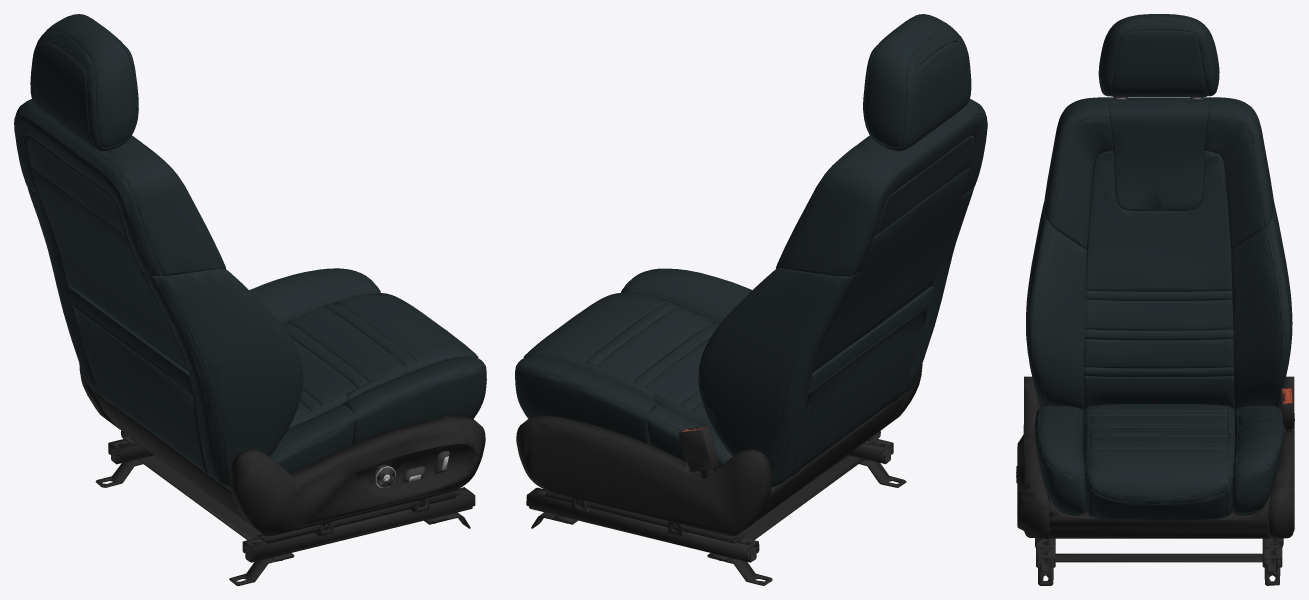
The model's file is seat.glb.
3 views of the same model, side by side, from view 1: azimuth 30°, elevation 25°; view 2: azimuth 150°, elevation 25°; view 3: azimuth 270°, elevation 25° (orthographic). The views are drawn at different scales.
Visible parts, largest first — view 1: bucketSeat_01_mesh_00; view 2: bucketSeat_01_mesh_00; view 3: bucketSeat_01_mesh_00.
Part boxes in pixels (x1,y1,x2,y2): bucketSeat_01_mesh_00: (14, 14, 486, 585); bucketSeat_01_mesh_00: (515, 14, 987, 585); bucketSeat_01_mesh_00: (1016, 14, 1294, 585).
Size of the model in its own units: 0.7459 by 0.9673 by 0.5501.
Materials: 9 (5 with a texture image).
